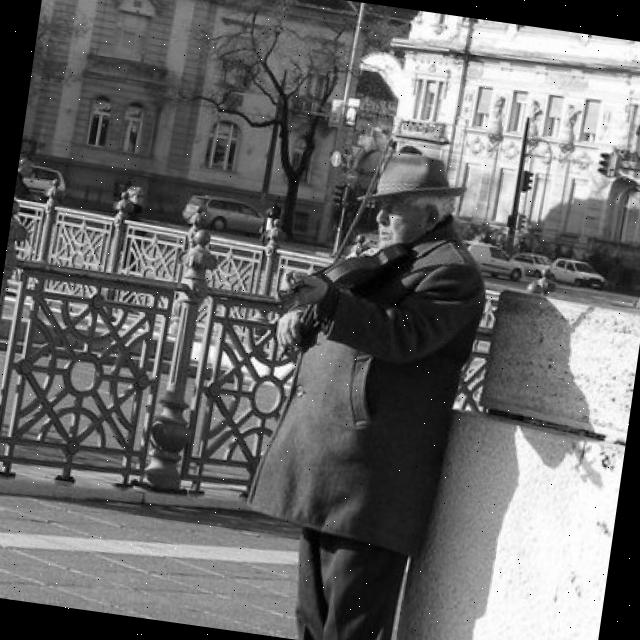violin: (268, 222, 417, 330)
